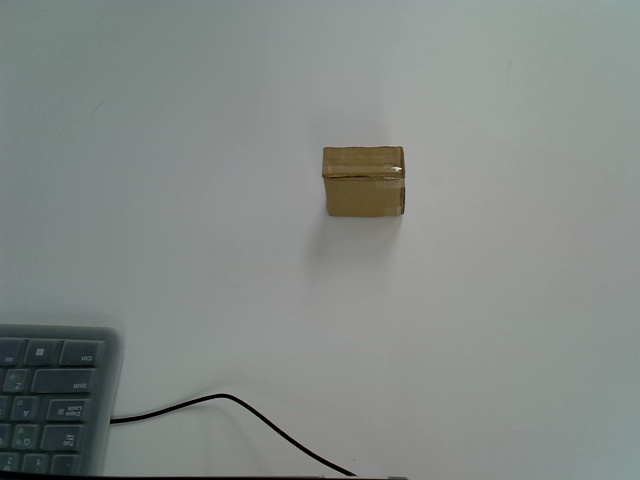normal: (322, 145, 406, 217)
